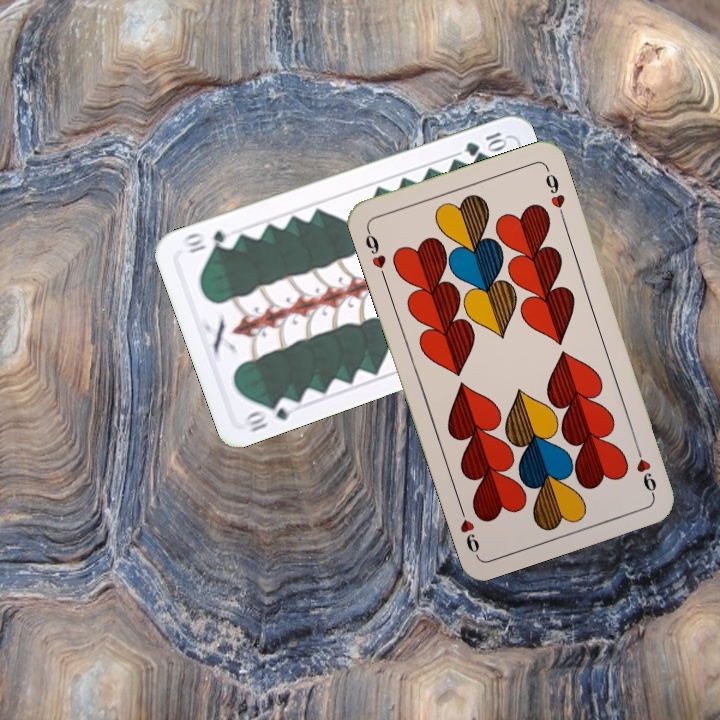G10: (239, 393, 299, 435), (461, 127, 509, 159)
H9: (361, 224, 389, 282), (631, 440, 659, 498)
